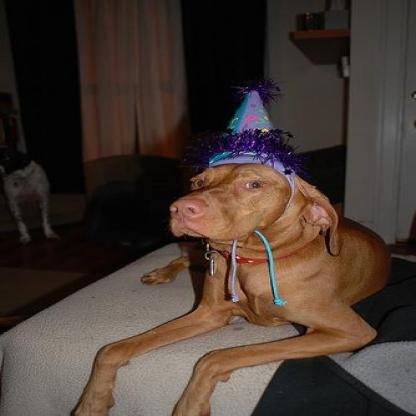vizsla: (71, 162, 392, 414)
